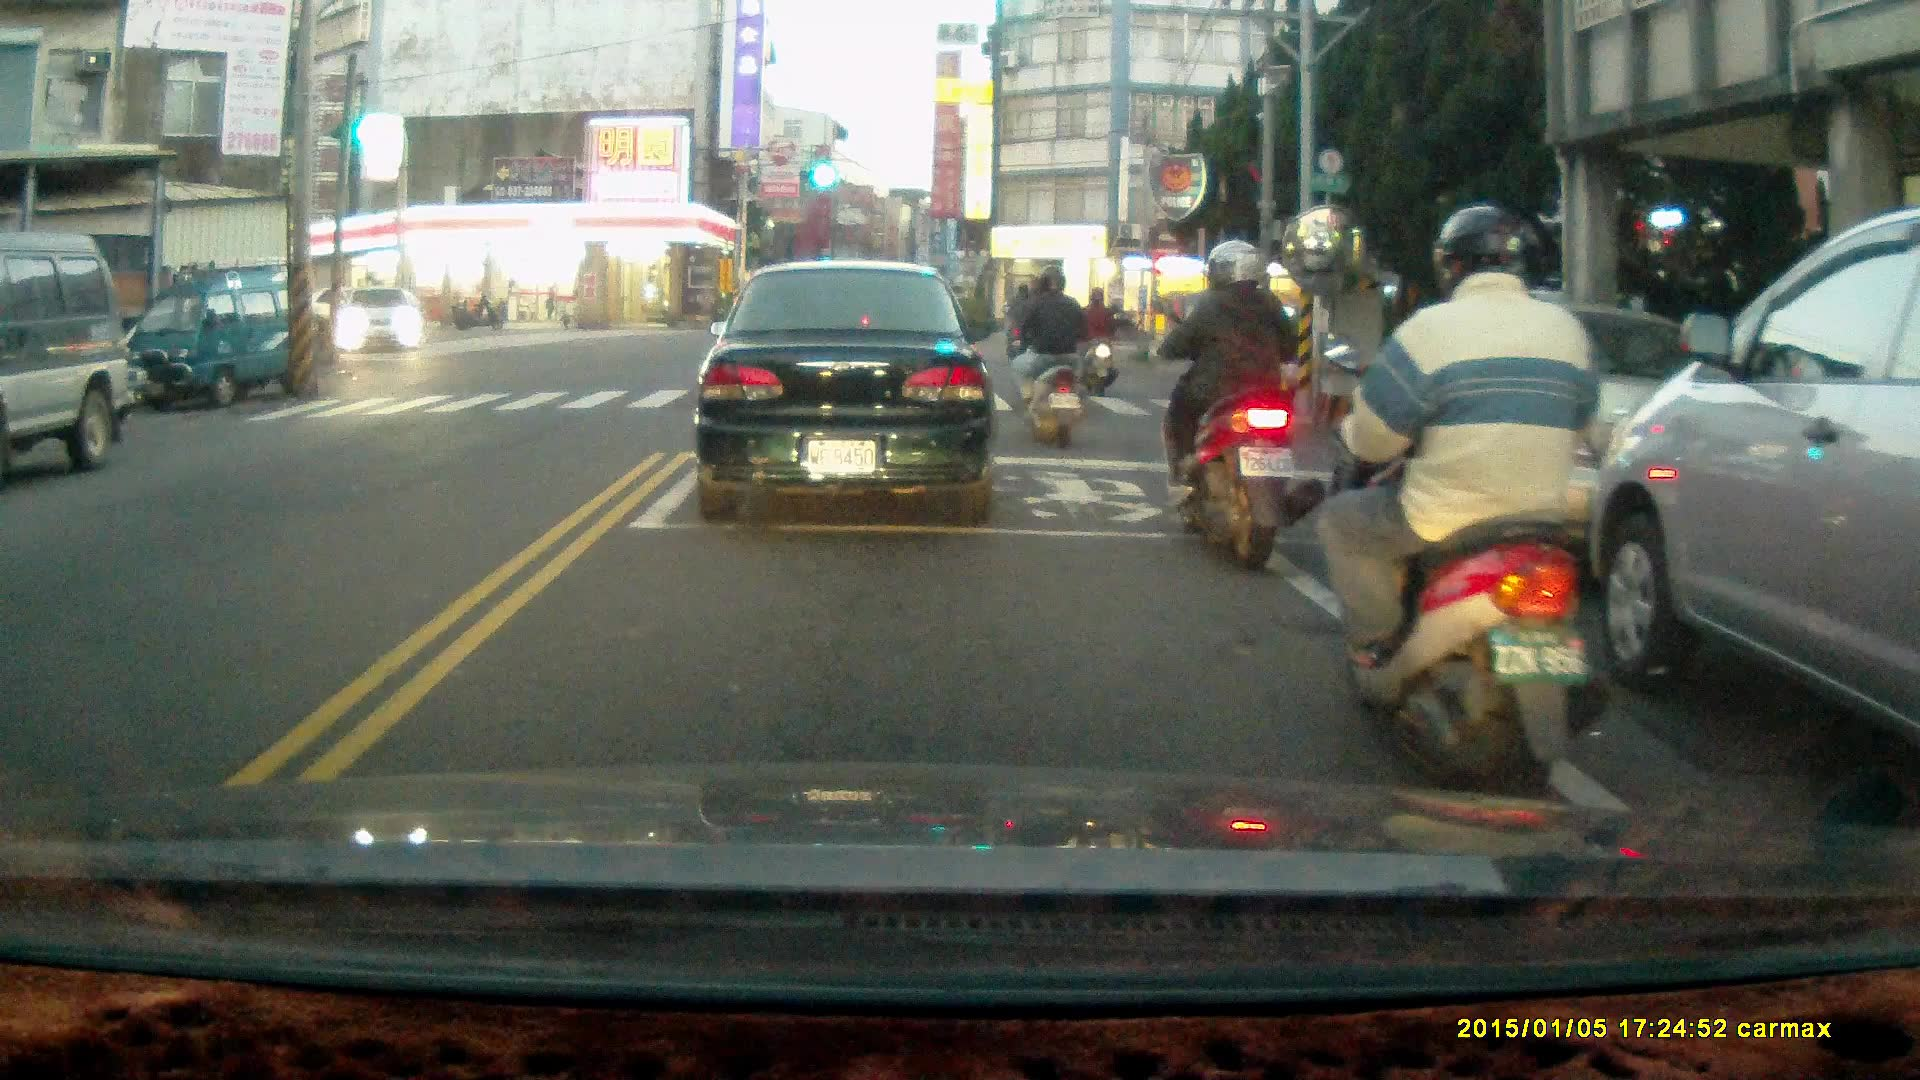rider: (1322, 206, 1621, 829), (1153, 237, 1324, 579), (1009, 262, 1086, 448), (1077, 284, 1117, 400)
vehicle: (1592, 210, 1920, 809), (691, 256, 1004, 529), (1, 234, 131, 481), (138, 263, 296, 408), (335, 288, 425, 358)
